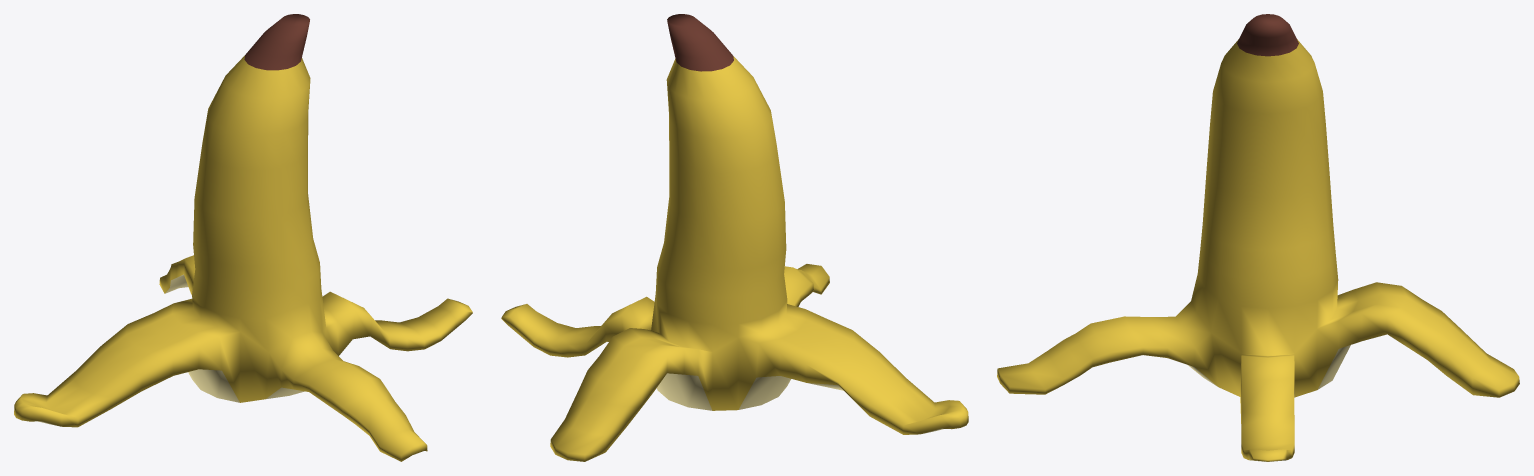
The model's file is BANANNA2.glb.
The picture shows the model from 3 angles, left to right: view 1: azimuth 30°, elevation 25°; view 2: azimuth 150°, elevation 25°; view 3: azimuth 270°, elevation 25°; orthographic projection. The views are drawn at different scales.
Visible parts, largest first — view 1: Cylinder; view 2: Cylinder; view 3: Cylinder.
Boxes of the visible parts, left/top/right/bottom form: Cylinder: left=14, top=14, right=472, bottom=461; Cylinder: left=501, top=14, right=968, bottom=461; Cylinder: left=997, top=14, right=1519, bottom=461.
Size of the model in its own units: 1.57 by 1.15 by 1.47.
